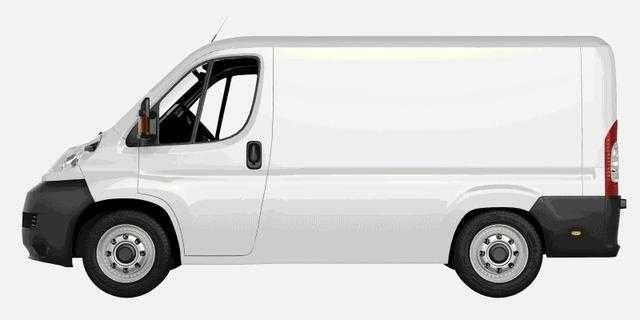car: (24, 34, 629, 298)
